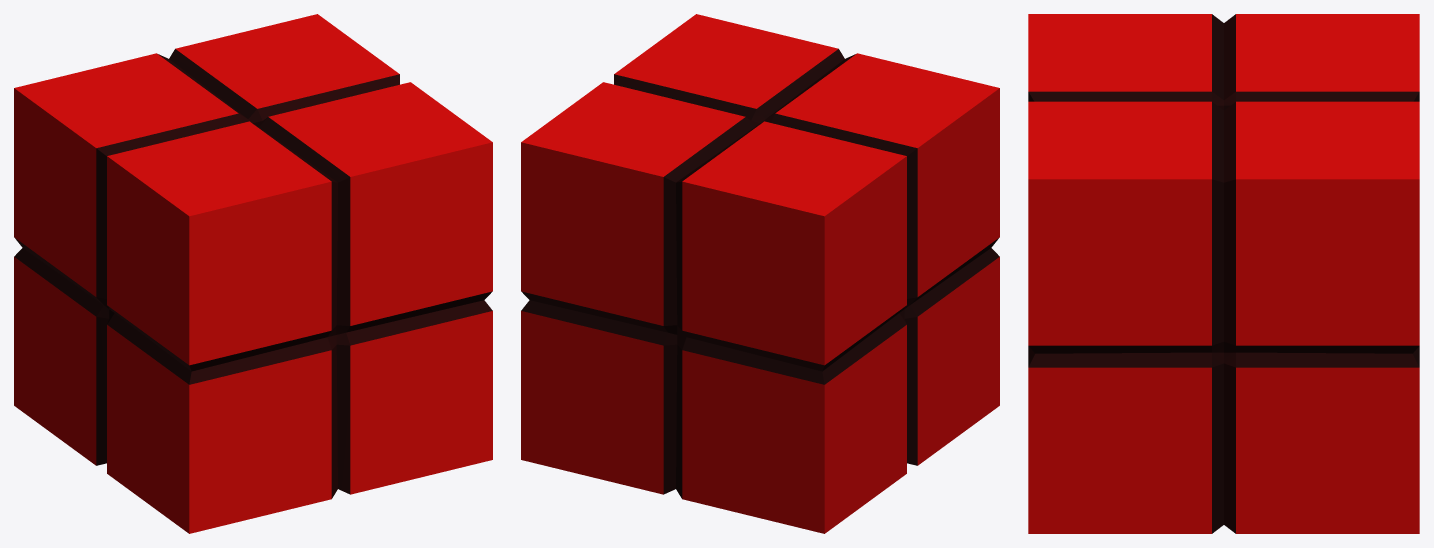
Rendered from TrampolineCube.FBX.
3 renders of one model, left to right at view 1: azimuth 30°, elevation 25°; view 2: azimuth 150°, elevation 25°; view 3: azimuth 270°, elevation 25°, orthographic. The views are drawn at different scales.
Parts seen in each view (by area): view 1: CuboTrampoline; view 2: CuboTrampoline; view 3: CuboTrampoline.
Boxes of the visible parts, box(x1,y1,x2,y2) form: CuboTrampoline: box(14, 14, 492, 533); CuboTrampoline: box(521, 14, 999, 533); CuboTrampoline: box(1028, 14, 1419, 533).
Bounding box in the file's own units: 1 × 1 × 1.
